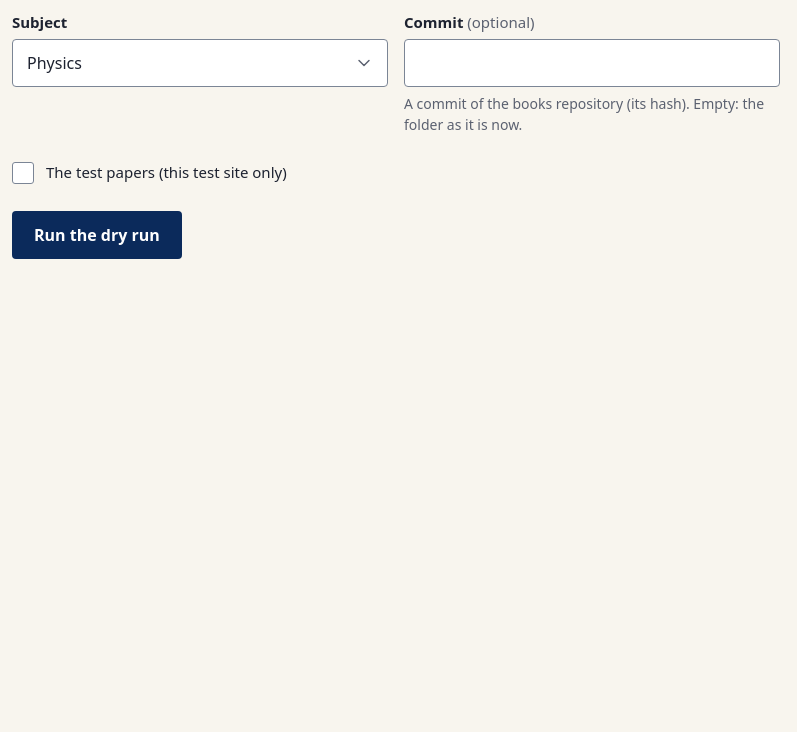
Test: ImportForm › runs the dry run, shows what it found, then applies it by name
Select "Chemistry" in the dropdown labelled "Subject" at (200, 63), box [12,39,388,87]
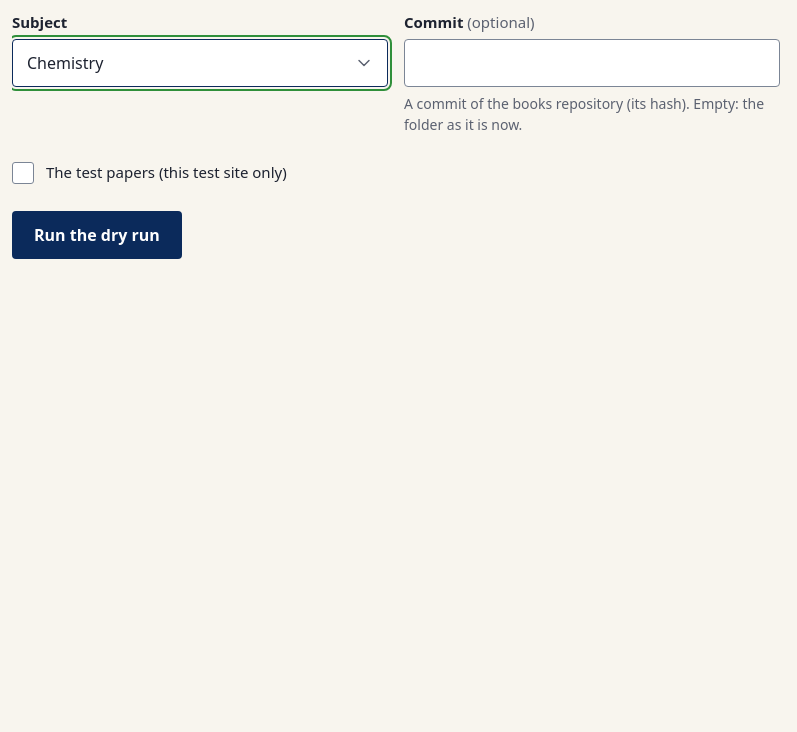
Click the button "Run the dry run" at (97, 235), box [12,211,182,259]
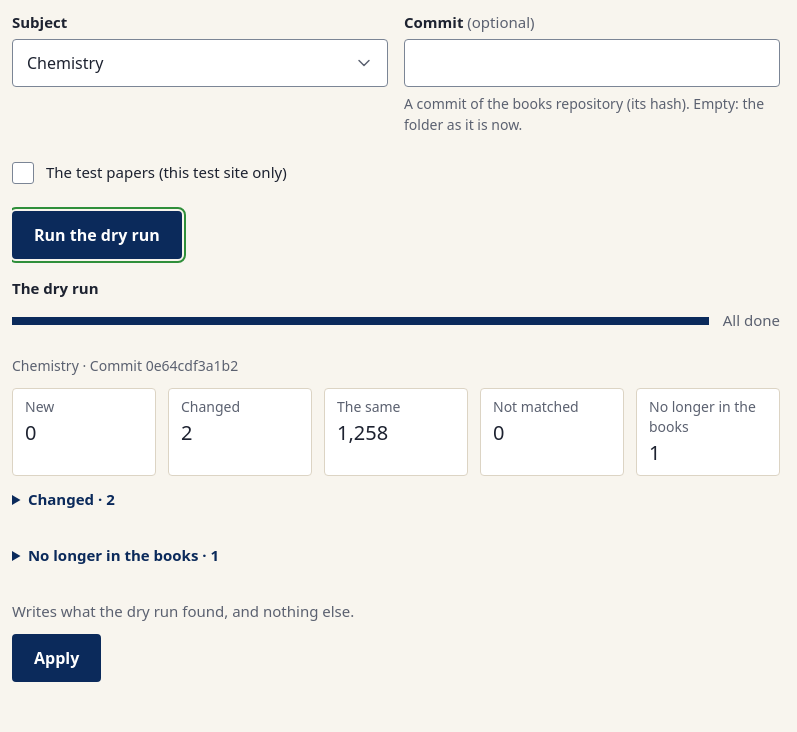
Expected: the text "2" is shown, [181,419,192,446]
Expected: the text "1" is shown, [649,439,660,466]
Click the button "Apply" at (57, 658), box [12,634,101,682]
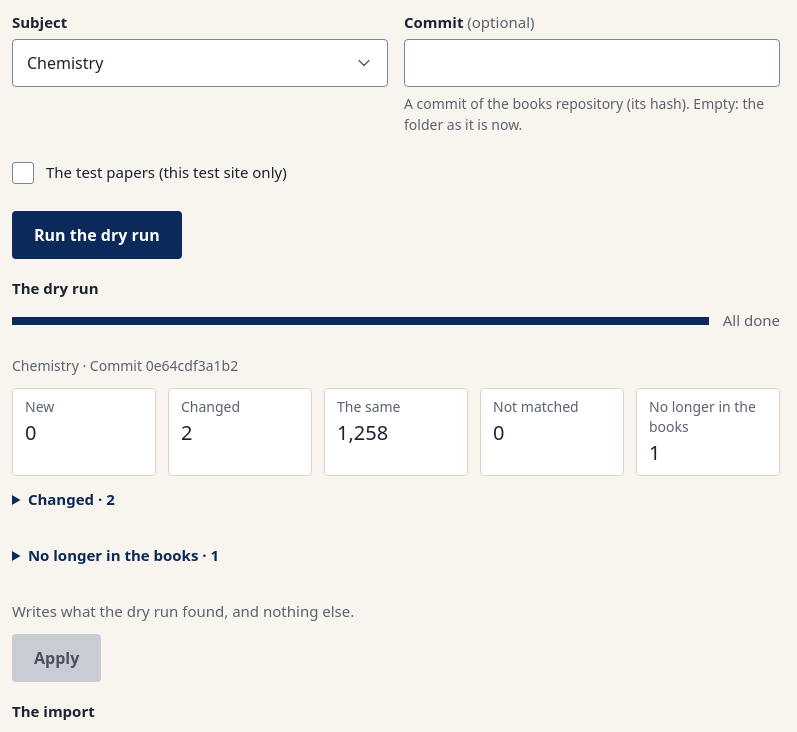
Expected: the button "Apply" is disabled, [12,634,101,682]
